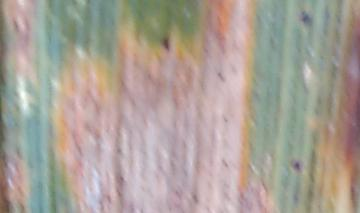tarspot: (300, 9, 313, 25), (162, 37, 171, 52), (292, 158, 302, 171), (12, 20, 20, 32)
